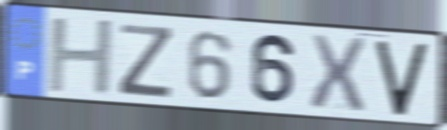6: (249, 32, 298, 106), (186, 28, 234, 102)
H: (46, 16, 117, 96)
V: (373, 39, 431, 118)
X: (307, 31, 368, 114)
Z: (115, 21, 176, 100)
